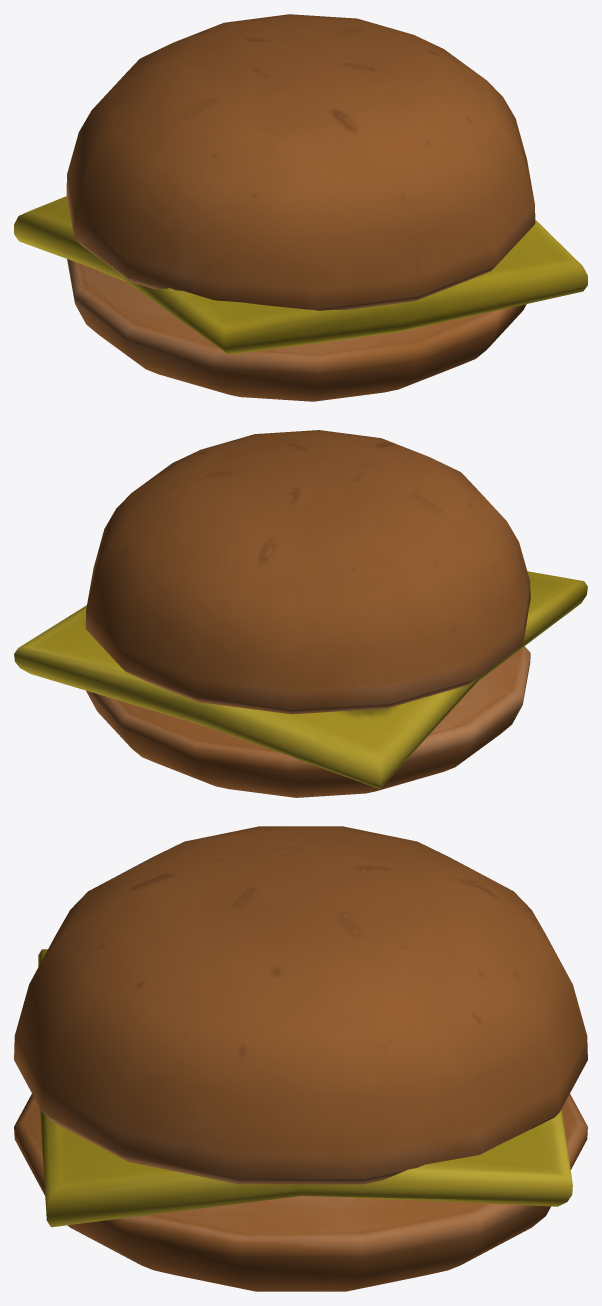
Rendered from MSH_Hamburguesa_P_Q.fbx.
3 renders of one model, top to bottom at view 1: azimuth 30°, elevation 25°; view 2: azimuth 150°, elevation 25°; view 3: azimuth 270°, elevation 25°, orthographic. The views are drawn at different scales.
Parts seen in each view (by area): view 1: MSH_Hamburguesa_P_Q; view 2: MSH_Hamburguesa_P_Q; view 3: MSH_Hamburguesa_P_Q.
Boxes of the visible parts, <box> form: MSH_Hamburguesa_P_Q: <box>14,14,587,401</box>; MSH_Hamburguesa_P_Q: <box>14,430,587,797</box>; MSH_Hamburguesa_P_Q: <box>14,826,587,1291</box>.
Bounding box in the file's own units: 9.34 × 9.58 × 6.27.
1 material, 1 textured.
